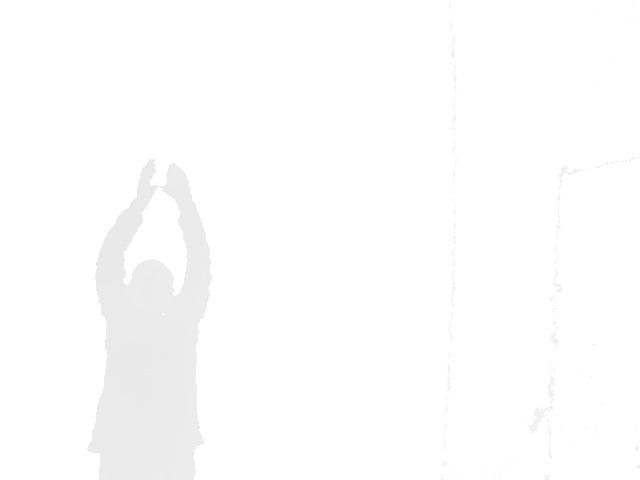hand: (160, 162, 194, 199), (135, 158, 159, 199)
head: (129, 258, 175, 316)
person: (85, 157, 213, 479)
